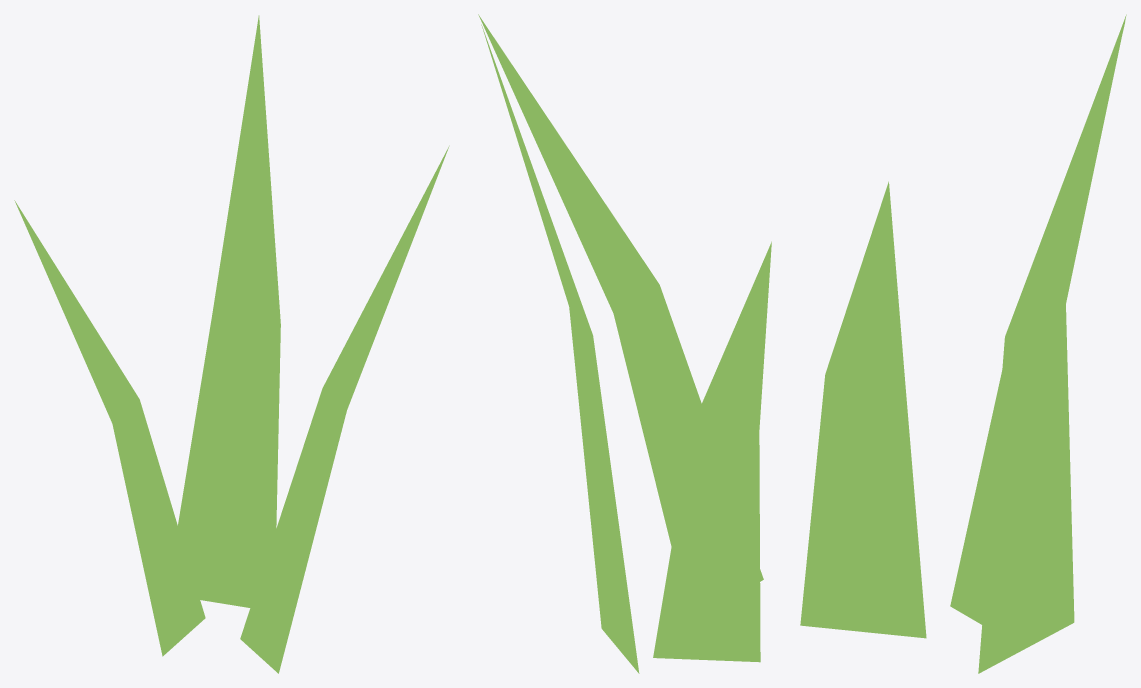
File: Grass_a_TwoS_02.fbx
3 renders of one model, left to right at view 1: azimuth 30°, elevation 25°; view 2: azimuth 150°, elevation 25°; view 3: azimuth 270°, elevation 25°, orthographic. The views are drawn at different scales.
Parts seen in each view (by area): view 1: Grass_a_TwoS_02; view 2: Grass_a_TwoS_02; view 3: Grass_a_TwoS_02.
Part boxes in pixels (<box>): Grass_a_TwoS_02: <box>14,15,449,673</box>; Grass_a_TwoS_02: <box>478,14,771,673</box>; Grass_a_TwoS_02: <box>800,14,1126,673</box>.
Bounding box in the file's own units: 0.3737 × 0.5752 × 0.2448.
